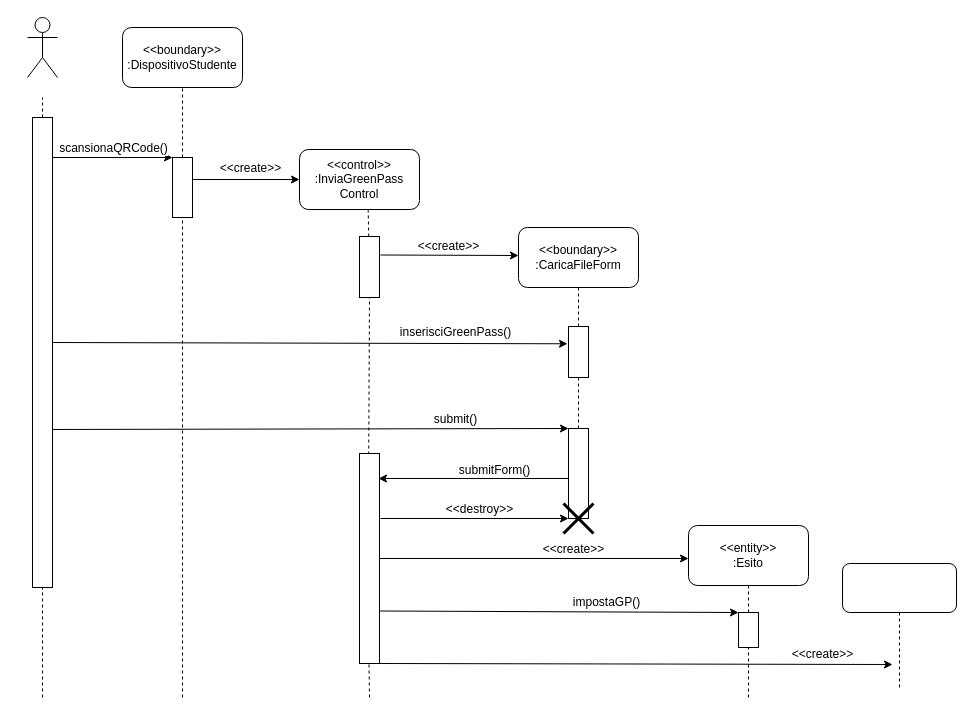
Image size: 974x716. Some labels were removed from this diagram. The shapes that lost their labels are listed below. From the top down, each one's centre as x and y in pixels, then its label:
the point at 42,47: :Studente
the point at 899,587: <<boundary>> : AvvisoCarica File
